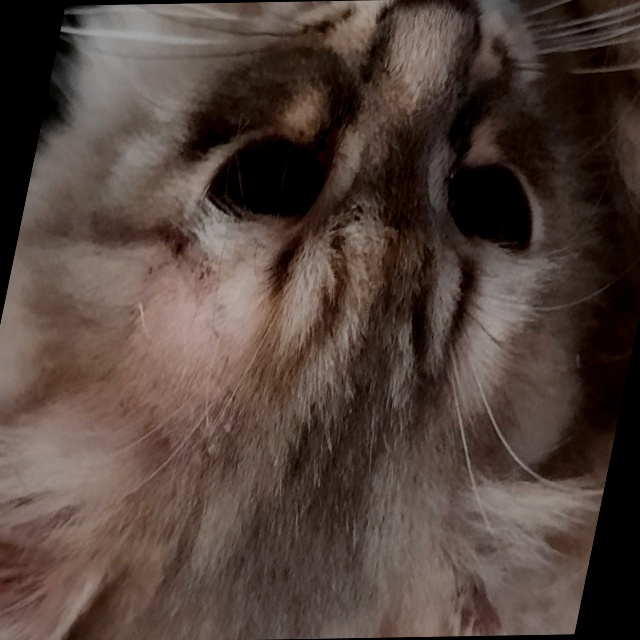hairloss: (169, 235, 279, 348)
